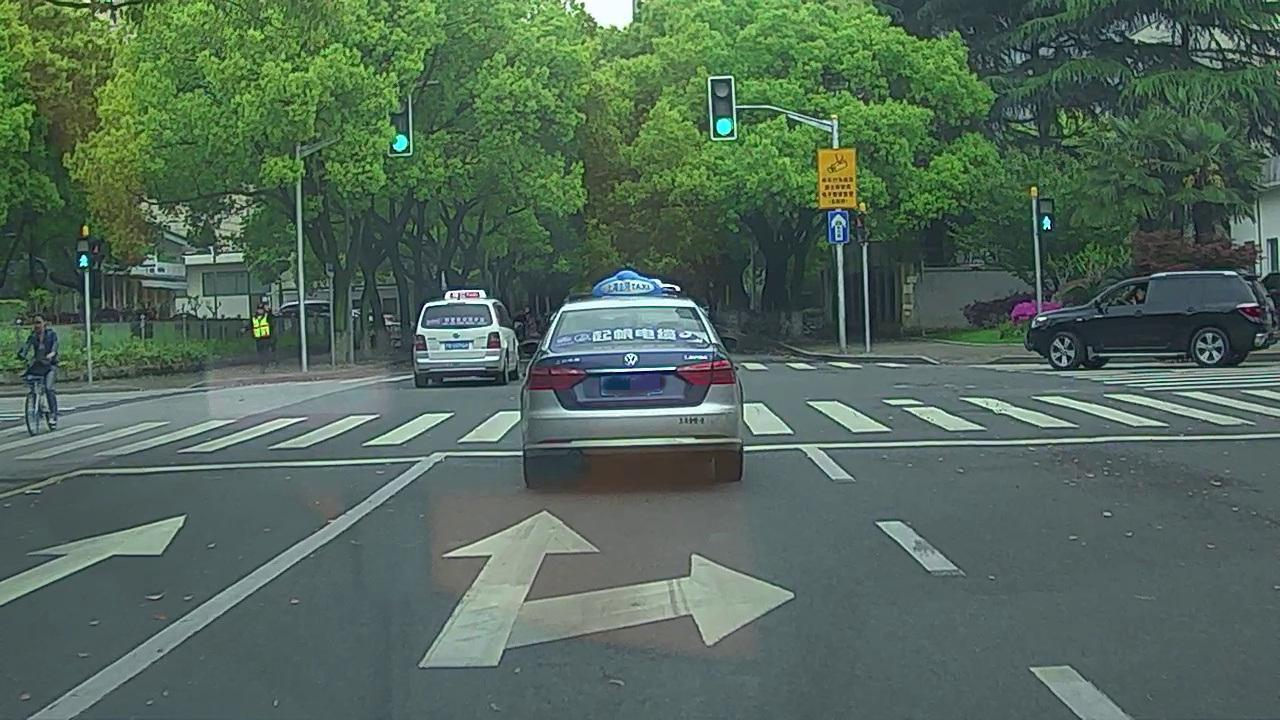traffic_light: (711, 78, 736, 141), (388, 95, 411, 154)
